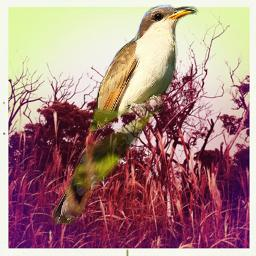Cuckoo: (49, 1, 200, 230)
